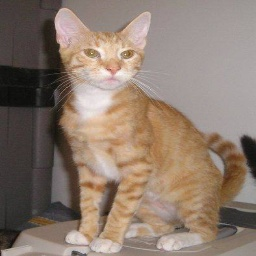cat: (38, 4, 244, 256)
